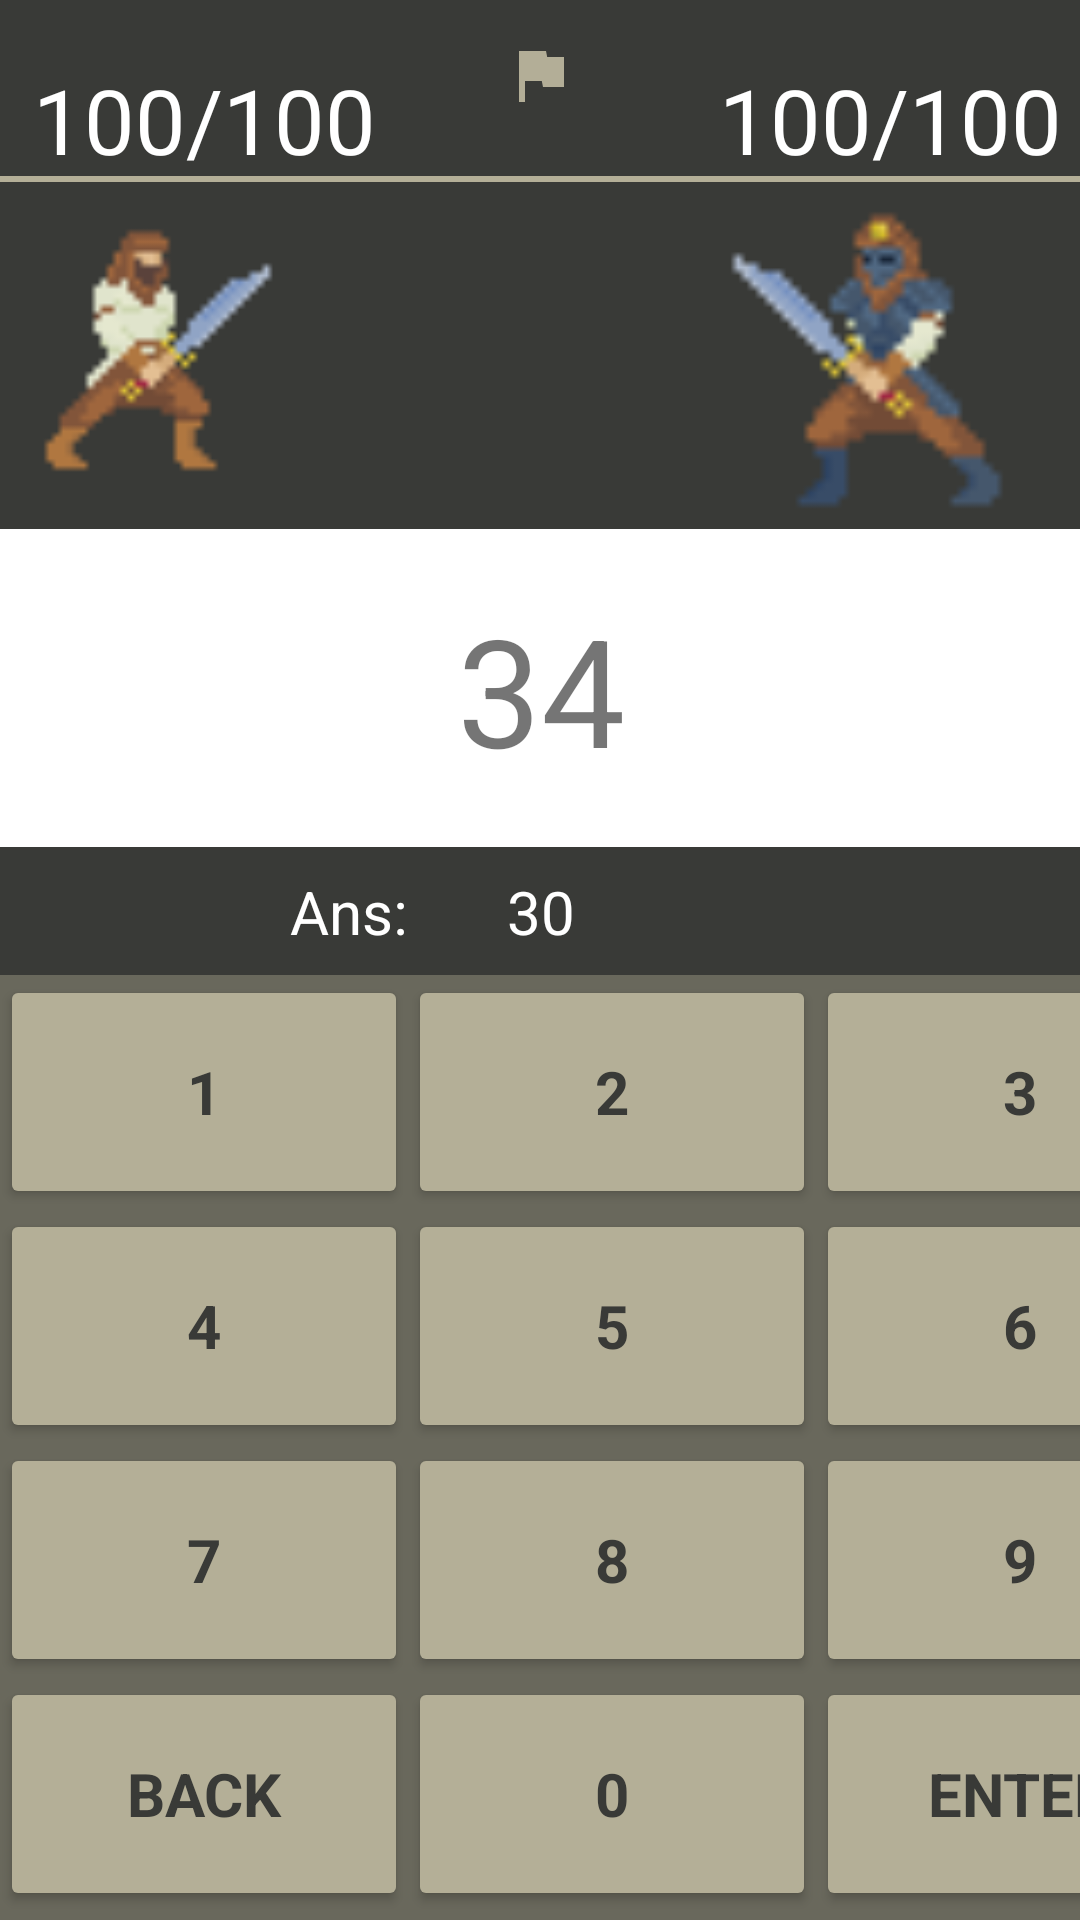

Named icons in this screenshot (1080px×1920px) and their bounding boxes, {"x1": x1, "y1": y1, "x2": x2, "y2": y2}:
flag: {"x1": 519, "y1": 51, "x2": 564, "y2": 102}
player idle: {"x1": 732, "y1": 214, "x2": 1000, "y2": 505}, {"x1": 45, "y1": 231, "x2": 272, "y2": 471}
